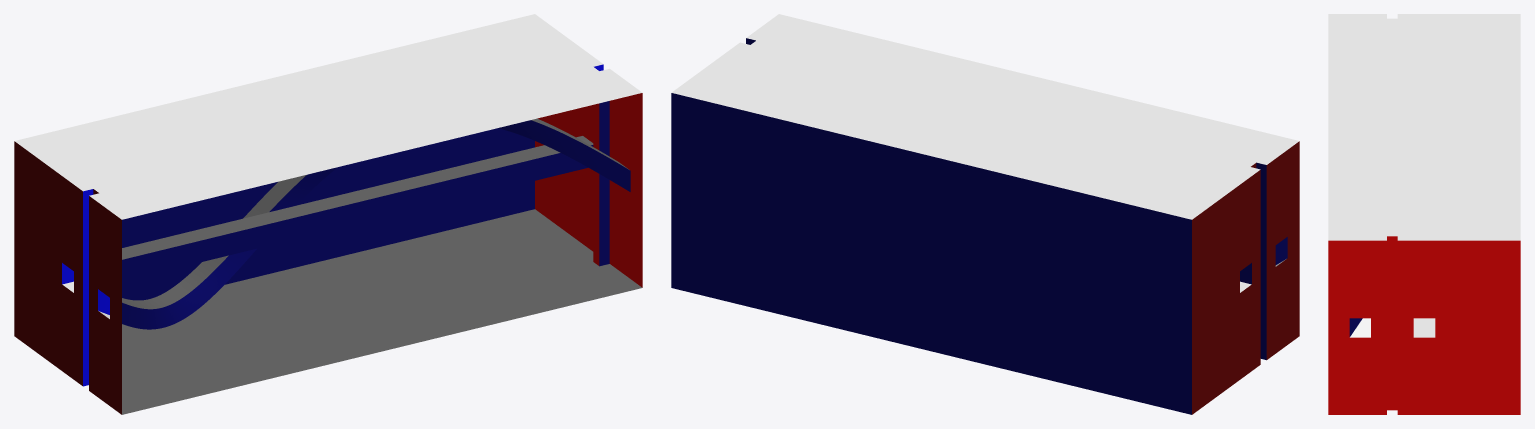
Rendered from labeled_mesh.glb.
The picture shows the model from 3 angles, left to right: view 1: azimuth 30°, elevation 25°; view 2: azimuth 150°, elevation 25°; view 3: azimuth 270°, elevation 25°; orthographic projection. The views are drawn at different scales.
Size of the model in its own units: 25133 by 9000 by 9000.
Materials: 1 (1 with a texture image).
